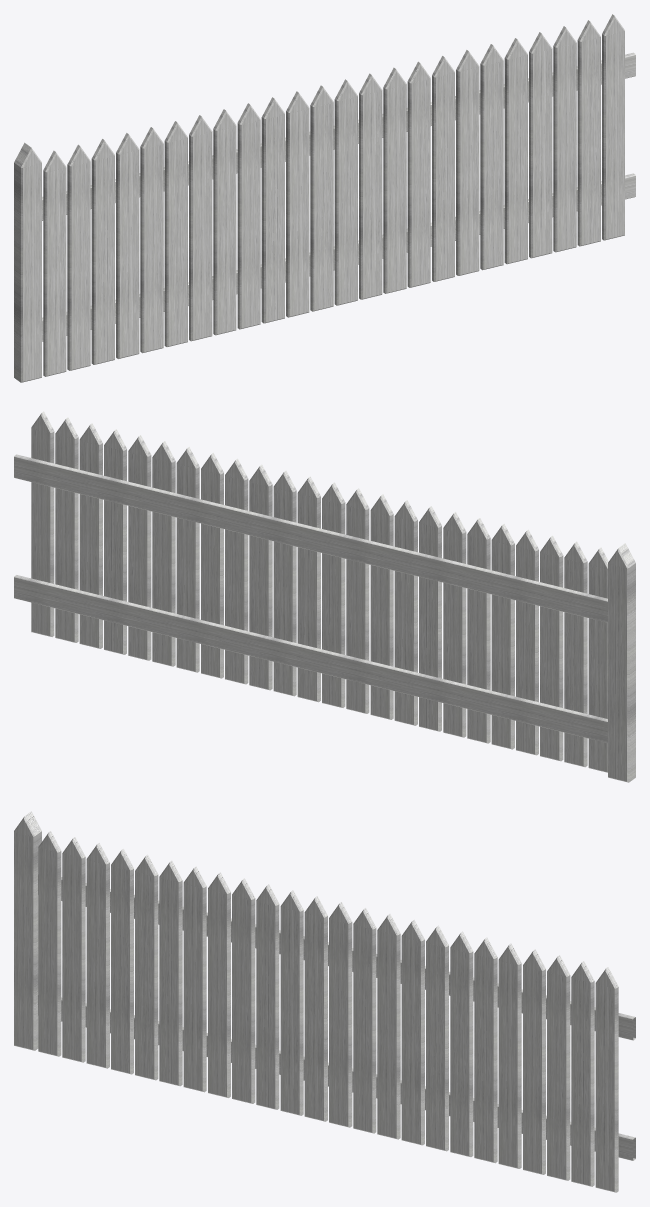
File: GardenFence.fbx
The picture shows the model from 3 angles, top to bottom: view 1: azimuth 30°, elevation 25°; view 2: azimuth 150°, elevation 25°; view 3: azimuth 330°, elevation 25°; orthographic projection.
Parts seen in each view (by area): view 1: cadnav.com; view 2: cadnav.com; view 3: cadnav.com.
Part boxes in pixels (x1,y1,x2,y2): cadnav.com: (14,14,635,382); cadnav.com: (14,411,635,782); cadnav.com: (14,811,635,1192).
Bounding box in the file's own units: 150 × 54.04 × 3.54.
